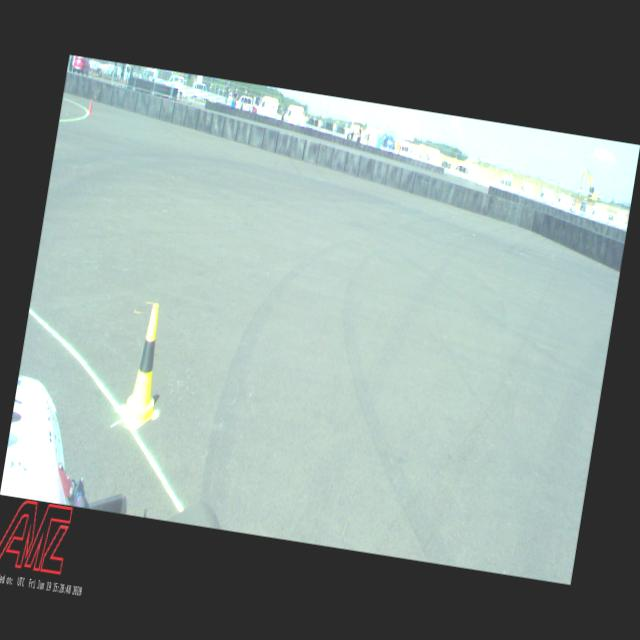unknown_cone: (88, 98, 93, 115)
yellow_cone: (121, 301, 173, 429)
